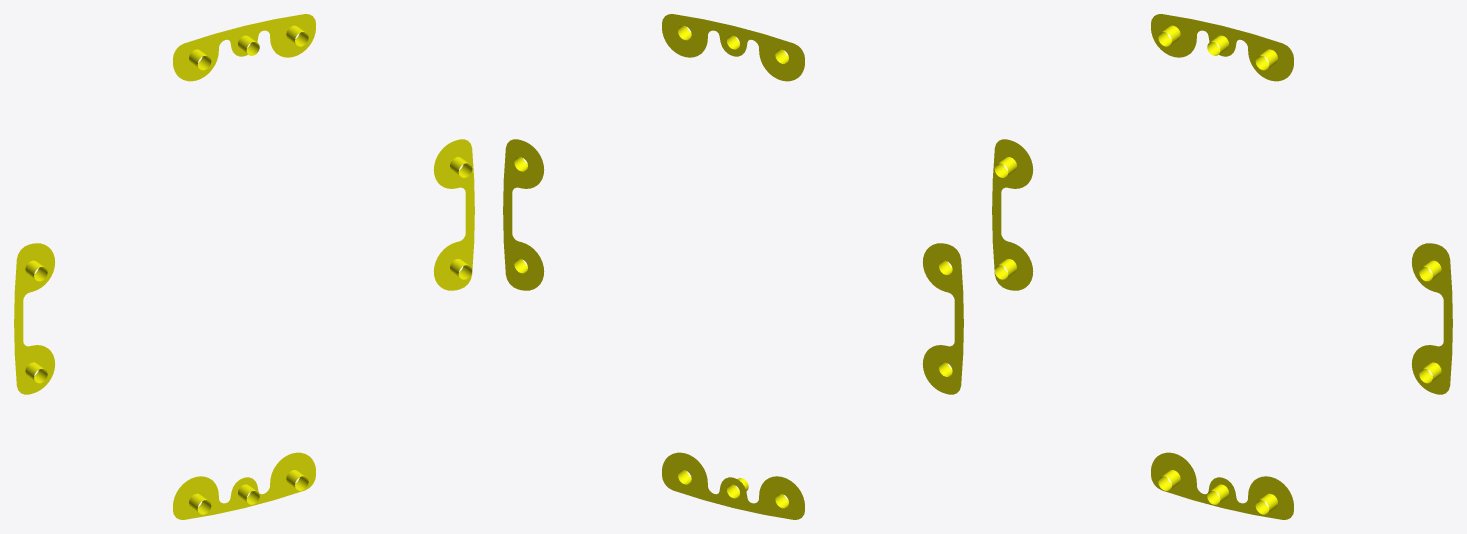
File: Pfen3DE45D4A9opp_12_Pfen3DE45D4A9opp_Mesh_4.obj
3 renders of one model, left to right at view 1: azimuth 30°, elevation 25°; view 2: azimuth 150°, elevation 25°; view 3: azimuth 330°, elevation 25°, orthographic.
Parts seen in each view (by area): view 1: Mesh_Diffuse_6; view 2: Mesh_Diffuse_6; view 3: Mesh_Diffuse_6.
Boxes of the visible parts, <box> form: Mesh_Diffuse_6: <box>14,14,474,519</box>; Mesh_Diffuse_6: <box>503,14,963,519</box>; Mesh_Diffuse_6: <box>992,14,1452,519</box>.
Size of the model in its own units: 1.04 by 1.04 by 0.034.
